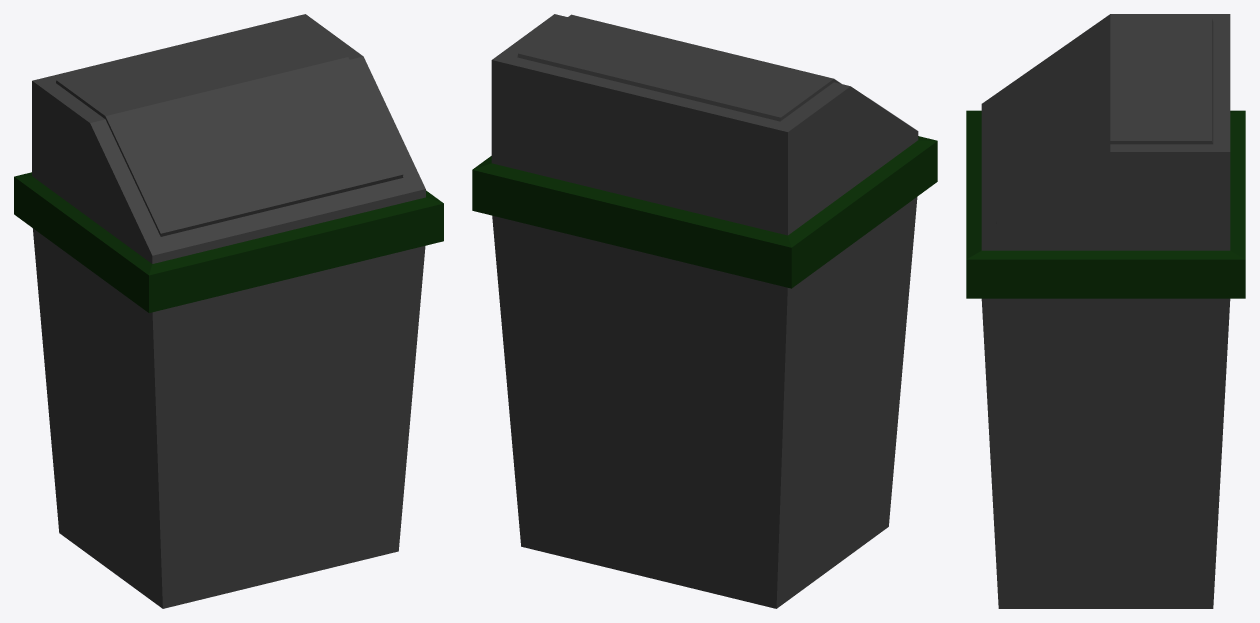
File: TrashBinV2Black.fbx
3 views of the same model, side by side, from view 1: azimuth 30°, elevation 25°; view 2: azimuth 150°, elevation 25°; view 3: azimuth 270°, elevation 25° (orthographic). The views are drawn at different scales.
Parts seen in each view (by area): view 1: TrashBinV2Black, TrashBinV2Black_Top; view 2: TrashBinV2Black, TrashBinV2Black_Top; view 3: TrashBinV2Black, TrashBinV2Black_Top.
Part boxes in pixels (box(x1,y1,x2,y2)): TrashBinV2Black: box(14, 14, 443, 608); TrashBinV2Black_Top: box(56, 21, 403, 236); TrashBinV2Black: box(472, 14, 937, 608); TrashBinV2Black_Top: box(517, 14, 841, 121); TrashBinV2Black: box(966, 14, 1245, 608); TrashBinV2Black_Top: box(996, 18, 1213, 222).
Bounding box in the file's own units: 55.21 × 81.21 × 43.77.
